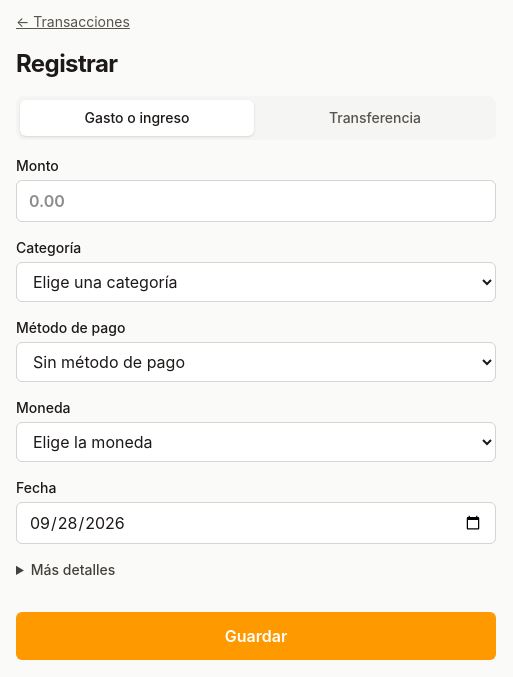
NewMovementScreen › shows an unknown API error or a network failure above the button
This screenshot has width=513, height=677.
In the field labelled "Monto": (256, 201) 16,180 -> 496,222, type "10"
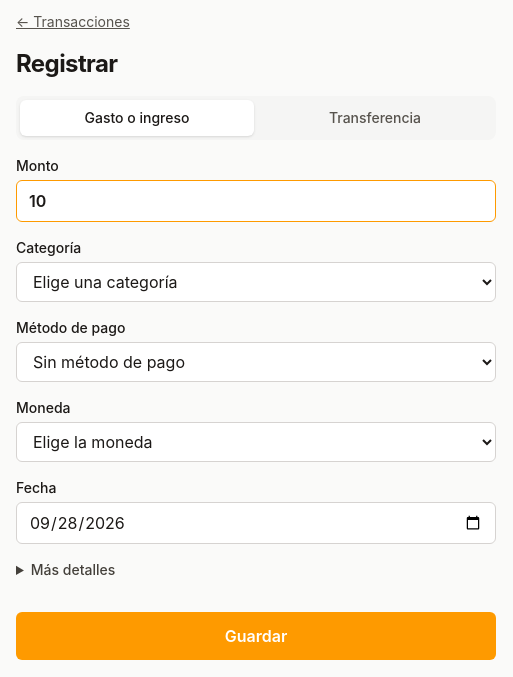
Select "Comida" in the dropdown labelled "Categoría": (256, 282) 16,262 -> 496,302
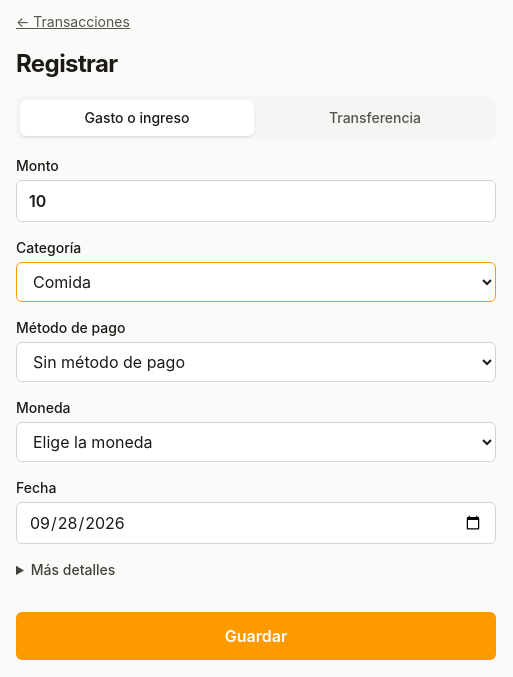
Select "BCP" in the dropdown labelled "Método de pago": (256, 362) 16,342 -> 496,382
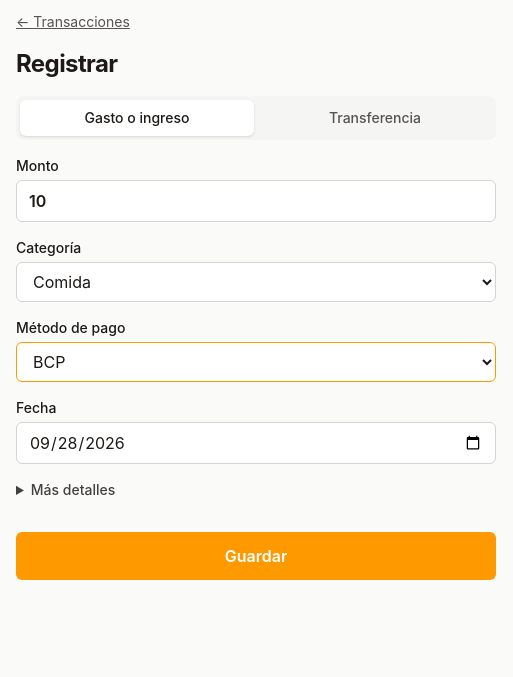
Click the button "Guardar": (256, 556) 16,532 -> 496,580
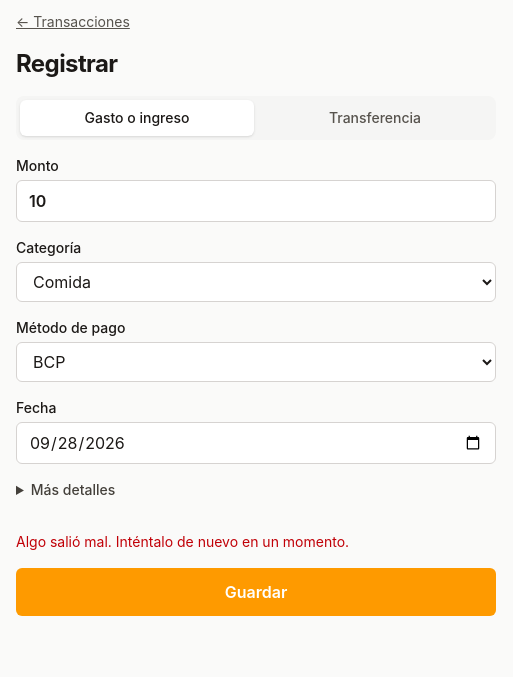
Expected: the message shows "Algo salió mal.", 16,533 -> 349,550
Click the button "Guardar": (256, 592) 16,568 -> 496,616
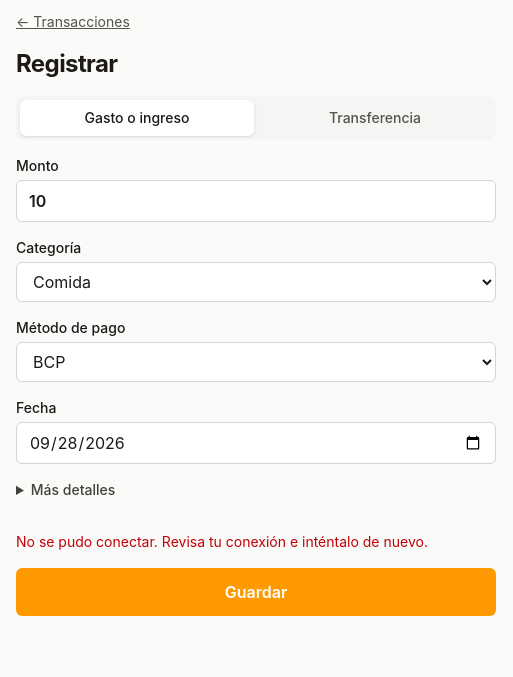
Expected: the message shows "No se pudo conectar.", 16,533 -> 428,550
